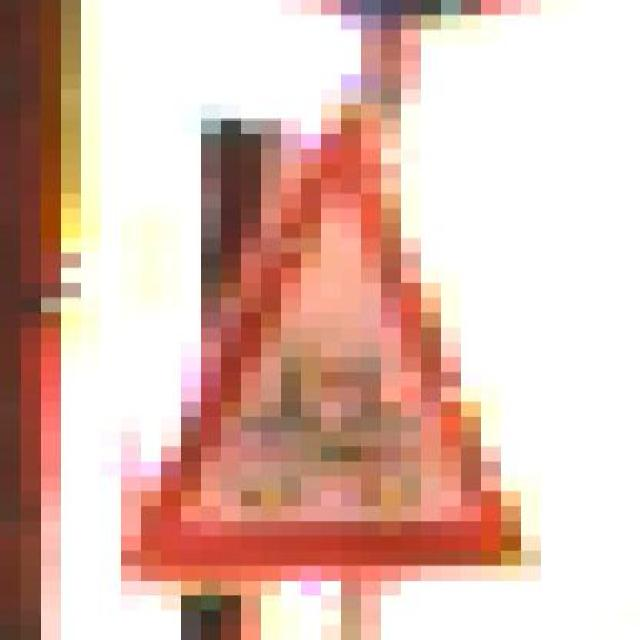CYCLE ROUTE AHEAD WARNING: (109, 90, 588, 596)
